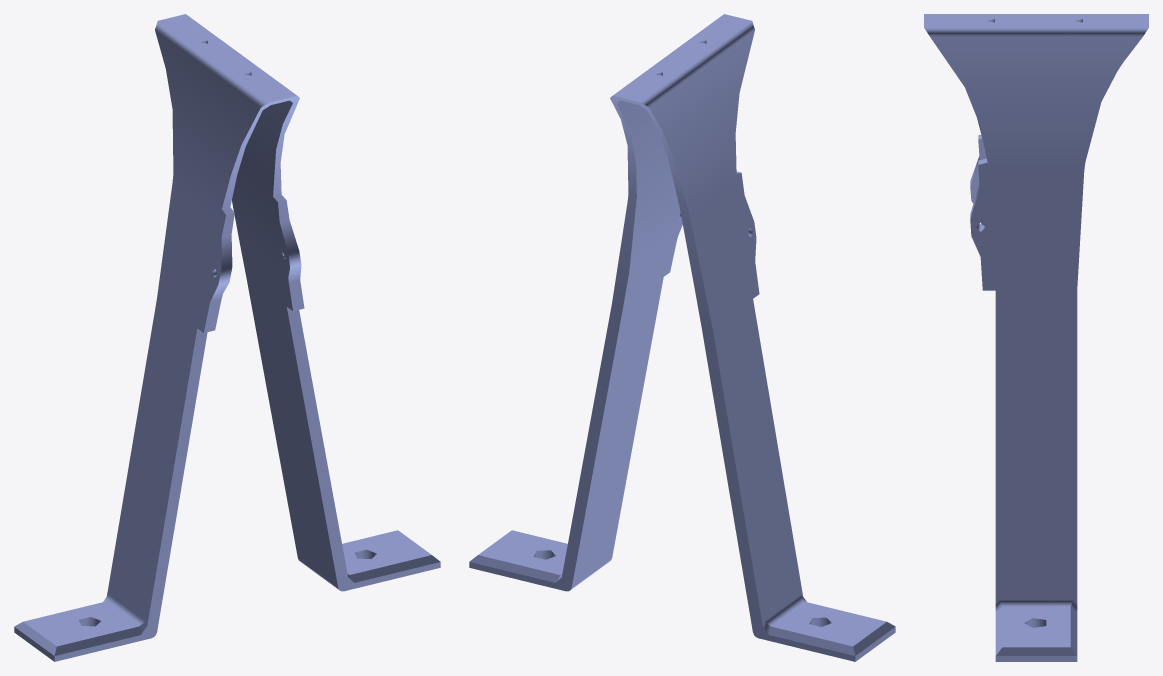
The model's file is Copie de Support suspension^Copie de Assemb_Support suspension_Horloge Comtoise Verge - Sonnerie.obj.
3 renders of one model, left to right at view 1: azimuth 30°, elevation 25°; view 2: azimuth 150°, elevation 25°; view 3: azimuth 270°, elevation 25°, orthographic.
Visible parts, largest first — view 1: Face_1, Face_44, Face_4, Face_33, Face_11, Face_51, Face_30, Face_25, Face_59, Face_19, Face_20, Face_24 (+1 smaller); view 2: Face_1, Face_44, Face_4, Face_33, Face_2, Face_49, Face_30, Face_25, Face_59, Face_21, Face_20, Face_45 (+3 smaller); view 3: Face_47, Face_35, Face_30, Face_59, Face_36, Face_62, Face_53, Face_60, Face_18.
Part boxes in pixels (x1,y1,x2,y2): Face_1: [107, 183, 224, 625]; Face_44: [239, 242, 338, 587]; Face_4: [155, 30, 260, 220]; Face_33: [232, 100, 292, 277]; Face_11: [54, 328, 207, 661]; Face_51: [287, 307, 440, 591]; Face_30: [158, 14, 296, 102]; Face_25: [23, 601, 138, 646]; Face_59: [342, 530, 431, 574]; Face_19: [222, 95, 299, 208]; Face_20: [155, 21, 268, 107]; Face_24: [54, 626, 140, 655]; Face_1: [690, 179, 802, 625]; Face_44: [571, 237, 677, 587]; Face_4: [649, 30, 754, 217]; Face_33: [617, 100, 682, 271]; Face_2: [701, 325, 855, 661]; Face_49: [469, 304, 622, 591]; Face_30: [613, 14, 751, 102]; Face_25: [771, 601, 886, 646]; Face_59: [478, 530, 567, 574]; Face_21: [610, 95, 687, 208]; Face_20: [641, 21, 754, 107]; Face_45: [612, 194, 636, 306]; Face_47: [970, 171, 1084, 602]; Face_35: [930, 36, 1142, 171]; Face_30: [924, 14, 1148, 27]; Face_59: [1002, 607, 1070, 647]; Face_36: [924, 27, 1148, 36]; Face_62: [996, 647, 1076, 655]; Face_53: [1000, 599, 1072, 606]; Face_60: [995, 656, 1077, 661]; Face_18: [970, 138, 986, 203].
Bounding box in the file's own units: 0.069 × 0.0925 × 0.0345.
